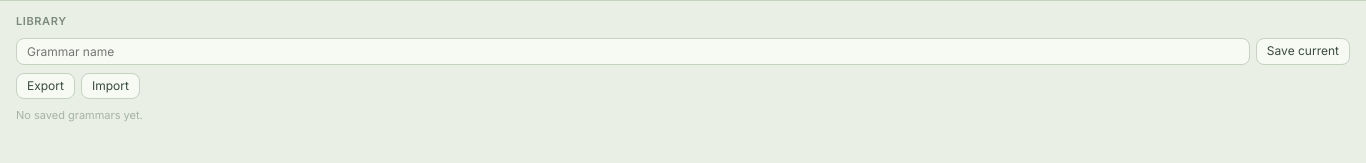
Test: GrammarLibrary › requires a name before saving
Click the button "Save current": (1303, 51) 1256,38 -> 1350,64
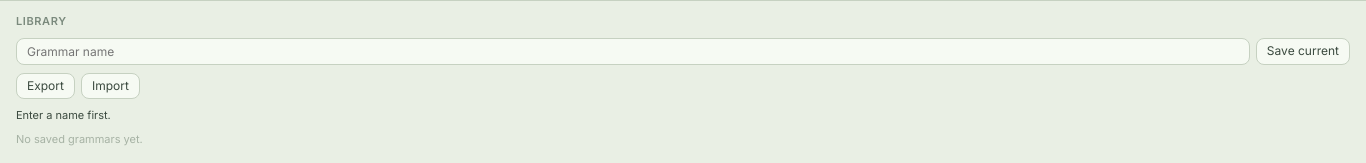
Result: the text "Enter a name first." is shown at 16,108 -> 111,122
